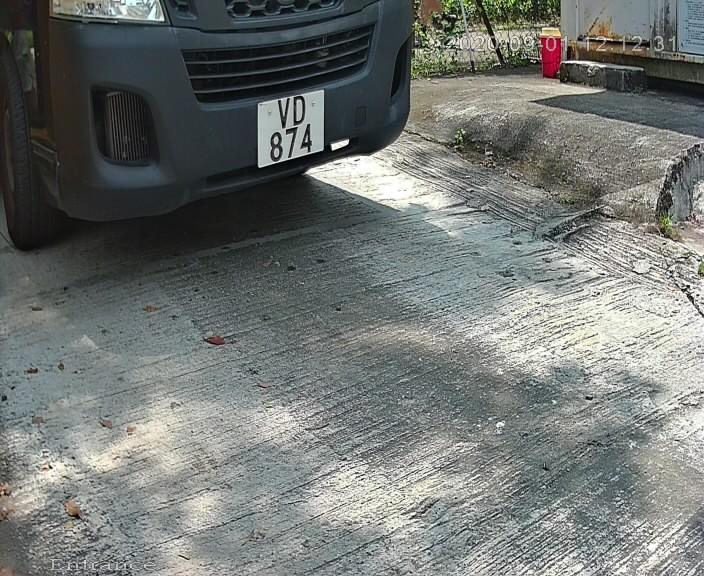Car: (32, 1, 453, 286)
License Plate: (243, 80, 334, 181)
